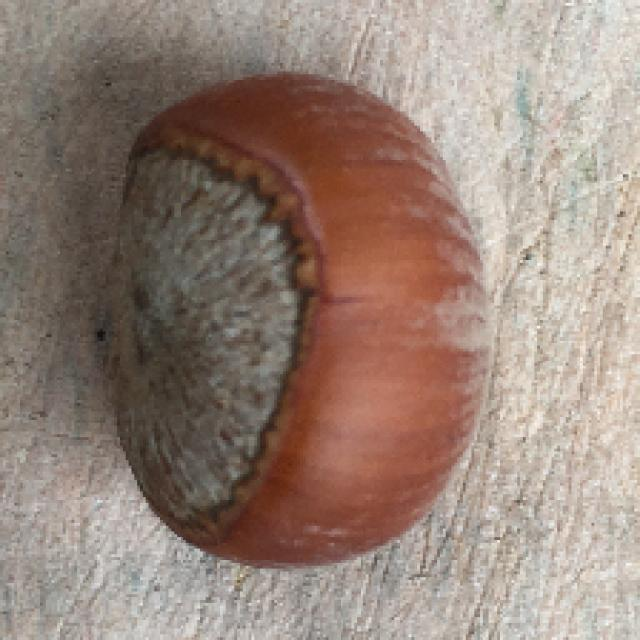hazelnut: (97, 66, 507, 576)
